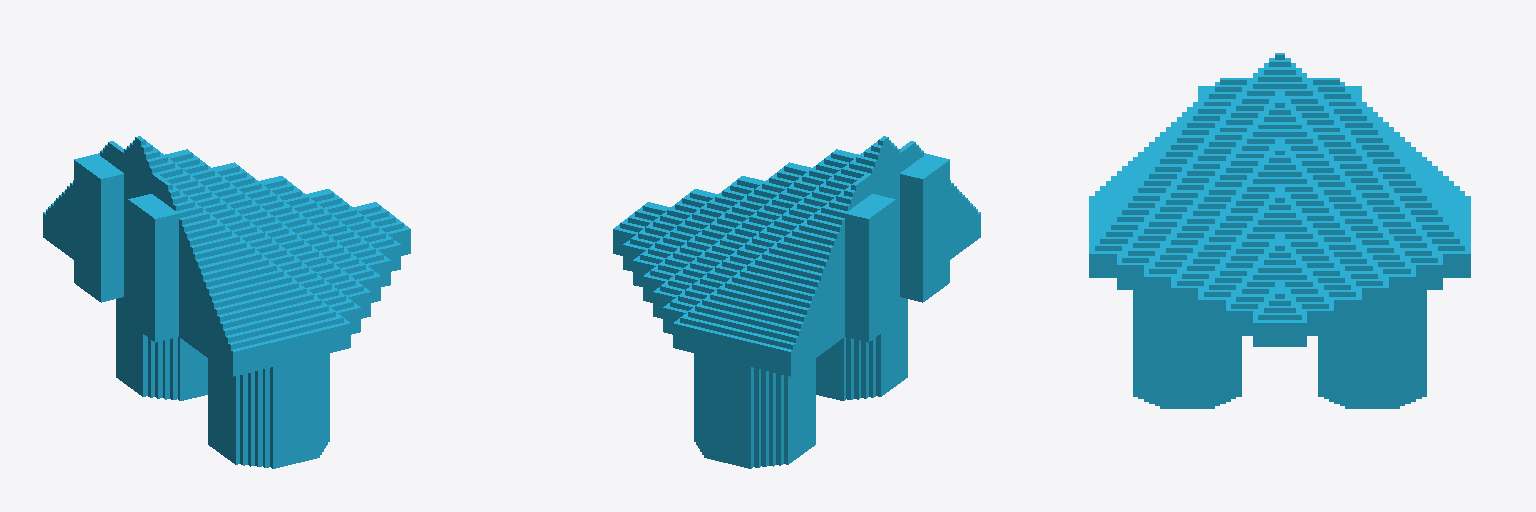
3 renders of one model, left to right at view 1: azimuth 30°, elevation 25°; view 2: azimuth 150°, elevation 25°; view 3: azimuth 270°, elevation 25°, orthographic.
Parts seen in each view (by area): view 1: object 1; view 2: object 1; view 3: object 1.
Part boxes in pixels (left/top/right/bottom): object 1: left=43, top=136, right=410, bottom=468; object 1: left=613, top=136, right=980, bottom=468; object 1: left=1089, top=53, right=1470, bottom=408.
Size of the model in its own units: 6 by 5.9 by 7.
1 materials, 1 textured.